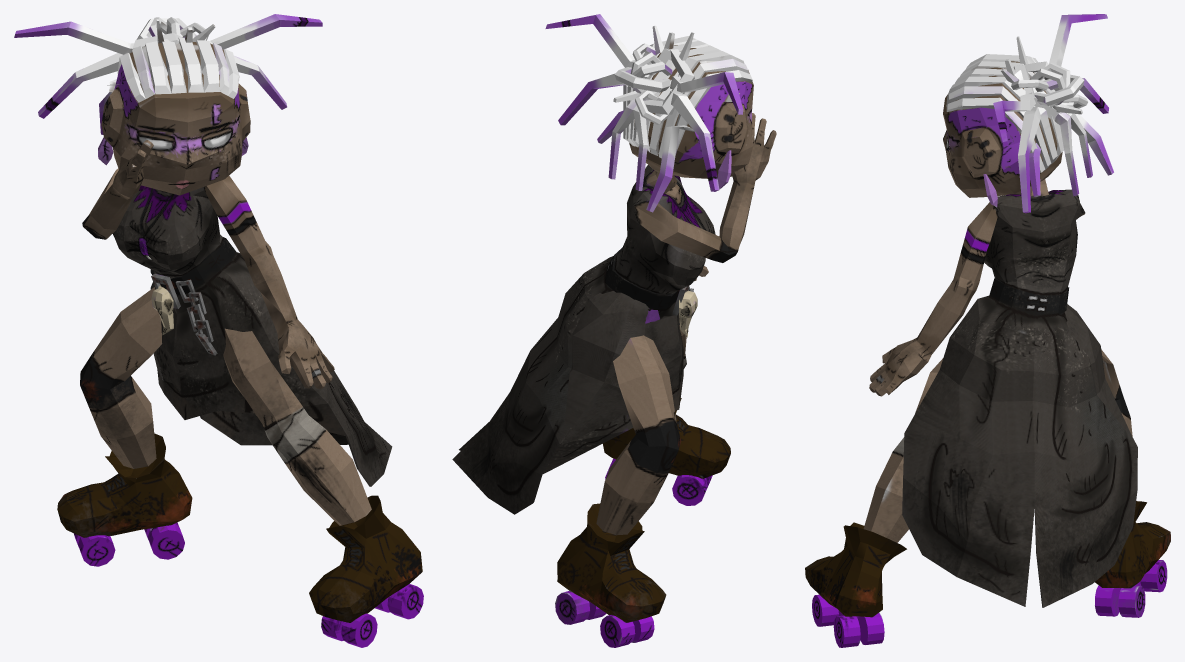
The model's file is bruja_000039.obj.
3 views of the same model, side by side, from view 1: azimuth 30°, elevation 25°; view 2: azimuth 150°, elevation 25°; view 3: azimuth 270°, elevation 25° (orthographic). The views are drawn at different scales.
Visible parts, largest first — view 1: Bruja_Plane.001; view 2: Bruja_Plane.001; view 3: Bruja_Plane.001.
Part boxes in pixels (left/top/right/bottom): Bruja_Plane.001: left=14, top=14, right=423, bottom=647; Bruja_Plane.001: left=452, top=14, right=776, bottom=647; Bruja_Plane.001: left=805, top=14, right=1170, bottom=647.
Size of the model in its own units: 9.26 by 15.44 by 9.24.
